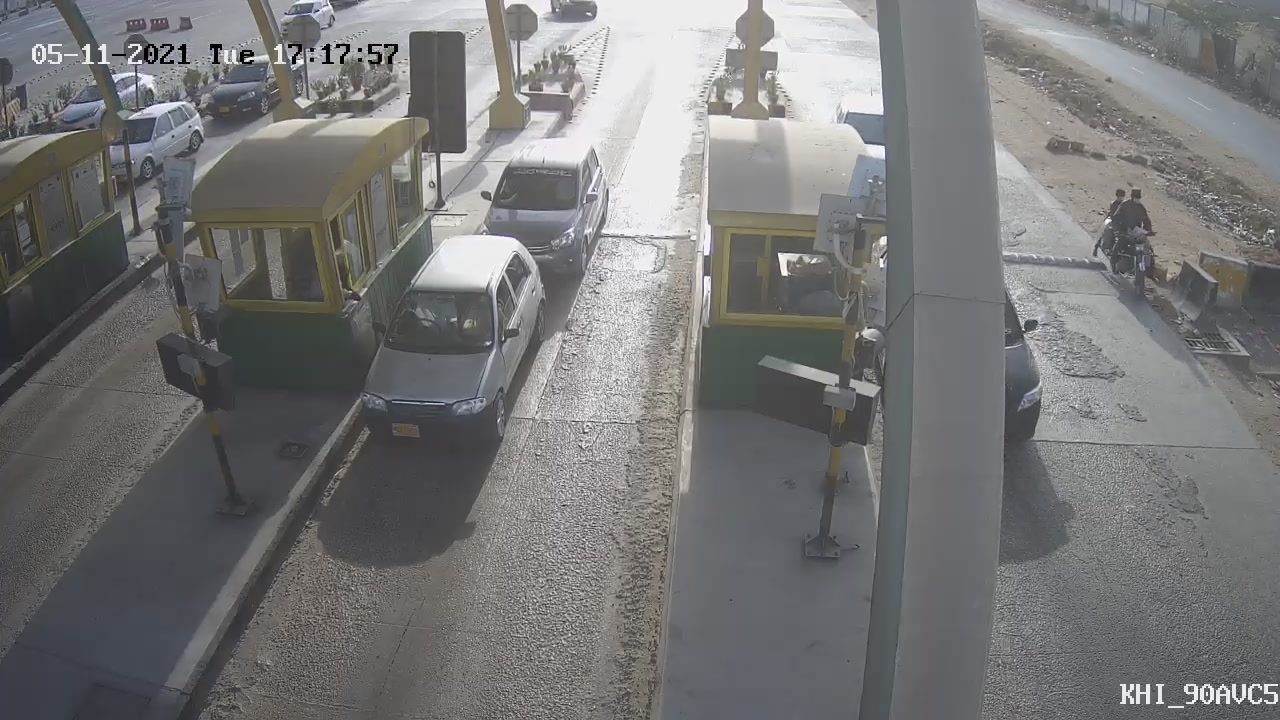F1: (334, 217, 556, 473), (460, 124, 625, 303)
